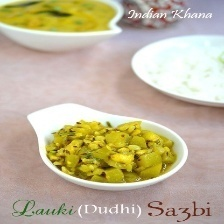sabzi: (45, 120, 179, 183)
